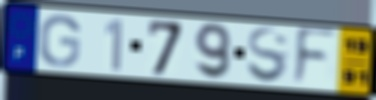1: (103, 18, 125, 73)
7: (146, 18, 185, 77)
9: (193, 22, 234, 81)
F: (291, 25, 339, 89)
G: (37, 14, 83, 69)
S: (245, 26, 290, 86)
